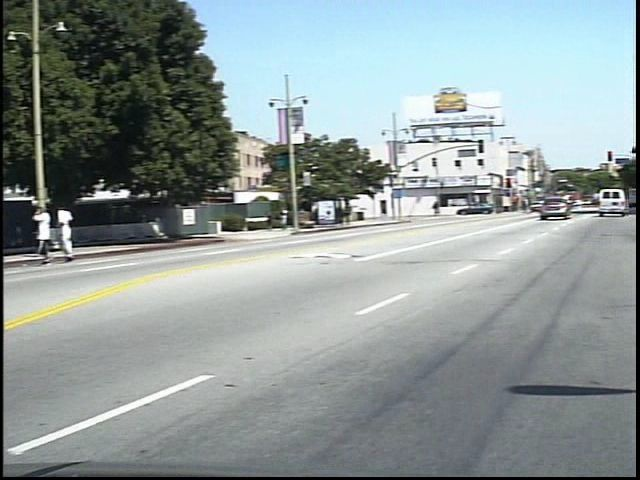person: (46, 202, 72, 265), (67, 203, 92, 265), (286, 206, 301, 235), (274, 208, 288, 233), (443, 198, 453, 219)
